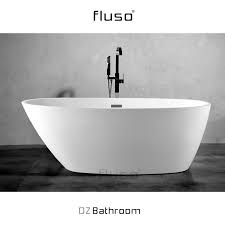bathub: (20, 90, 211, 181)
